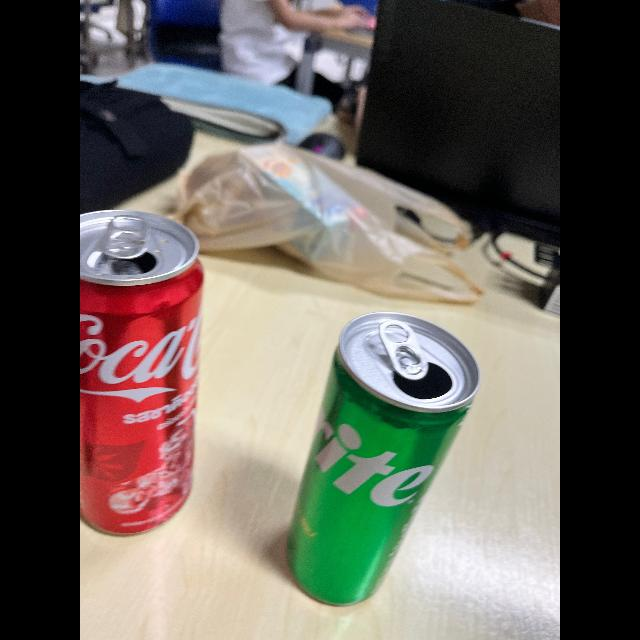can: (272, 304, 490, 600), (80, 198, 214, 540)
